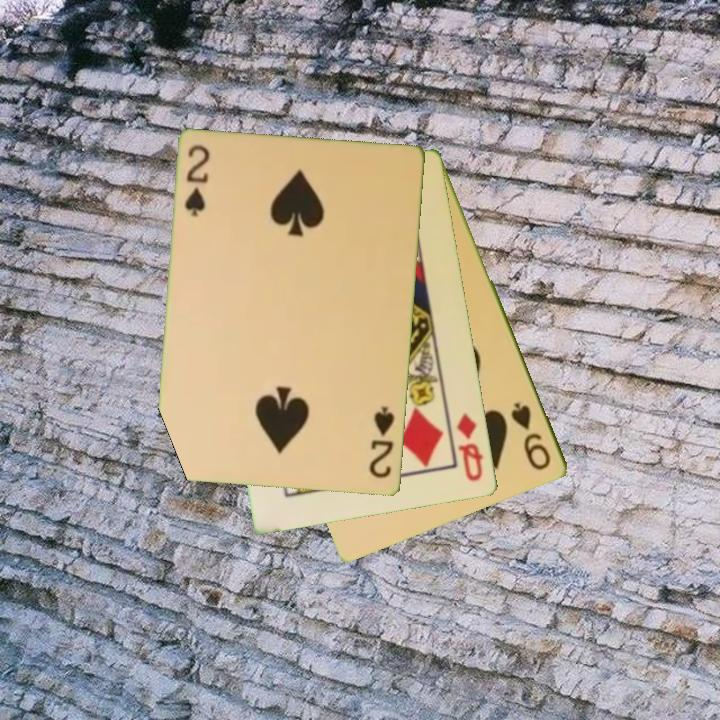2s: (181, 141, 213, 220), (366, 403, 398, 481)
9s: (508, 399, 555, 474)
Qd: (453, 409, 487, 485)
